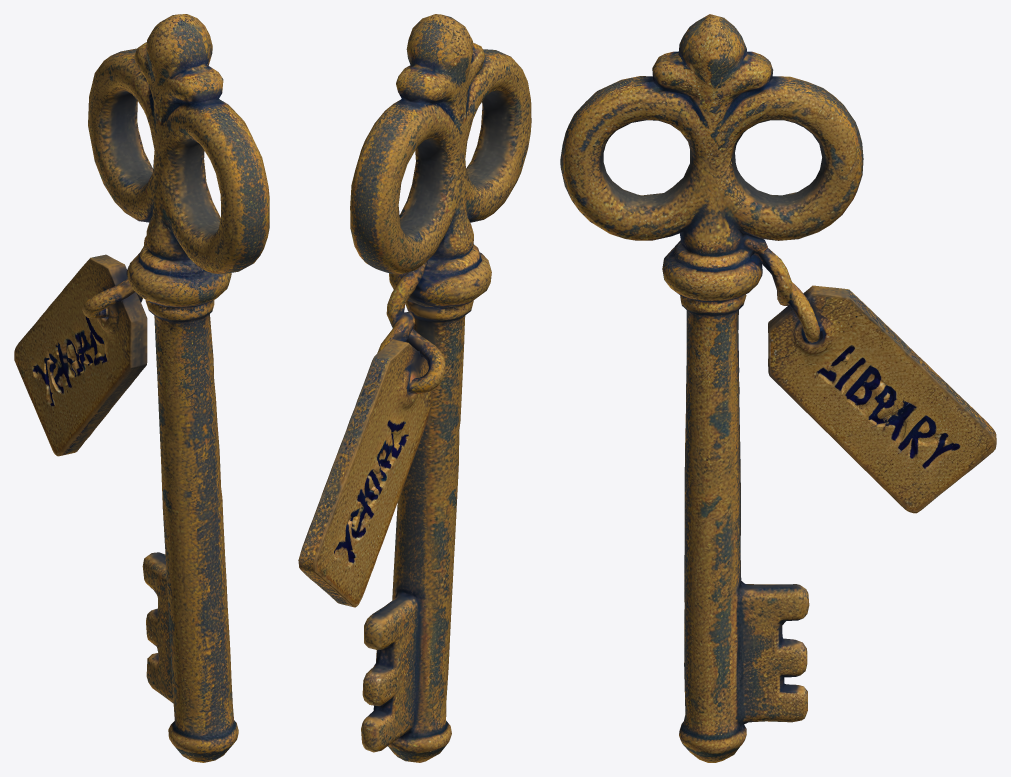
The model's file is KeyLibrary.fbx.
3 renders of one model, left to right at view 1: azimuth 30°, elevation 25°; view 2: azimuth 150°, elevation 25°; view 3: azimuth 270°, elevation 25°, orthographic. The views are drawn at different scales.
Parts seen in each view (by area): view 1: tripo_node_252a6325-498a-40b4-99a1-9c062605db89; view 2: tripo_node_252a6325-498a-40b4-99a1-9c062605db89; view 3: tripo_node_252a6325-498a-40b4-99a1-9c062605db89.
Part boxes in pixels (bbox=[...]): tripo_node_252a6325-498a-40b4-99a1-9c062605db89: bbox=[14, 14, 269, 762]; tripo_node_252a6325-498a-40b4-99a1-9c062605db89: bbox=[298, 14, 531, 762]; tripo_node_252a6325-498a-40b4-99a1-9c062605db89: bbox=[560, 14, 996, 762].
Size of the model in its own units: 14.48 by 100 by 54.12.
1 material, 1 textured.
